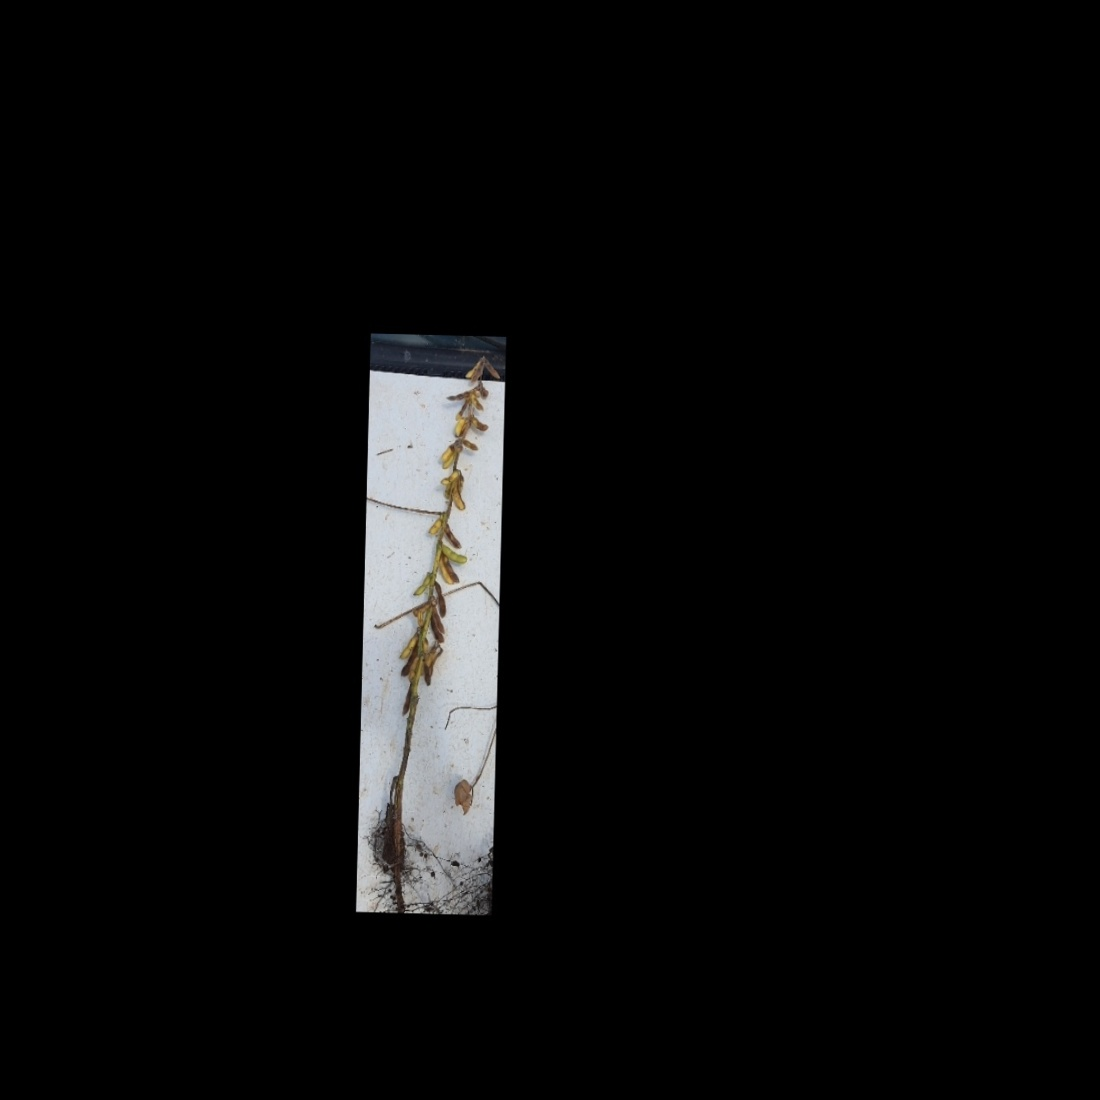pod: (409, 567, 434, 600), (432, 580, 450, 620), (441, 541, 469, 565), (396, 631, 417, 662), (443, 521, 463, 549), (483, 355, 503, 381), (399, 683, 413, 718), (426, 511, 444, 537), (445, 387, 473, 402), (453, 401, 470, 423), (470, 414, 490, 433), (460, 438, 480, 453)
soy: (360, 346, 503, 892)
